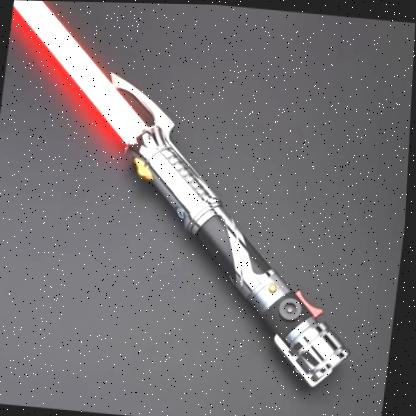sith_lightsaber: (0, 0, 411, 409)
